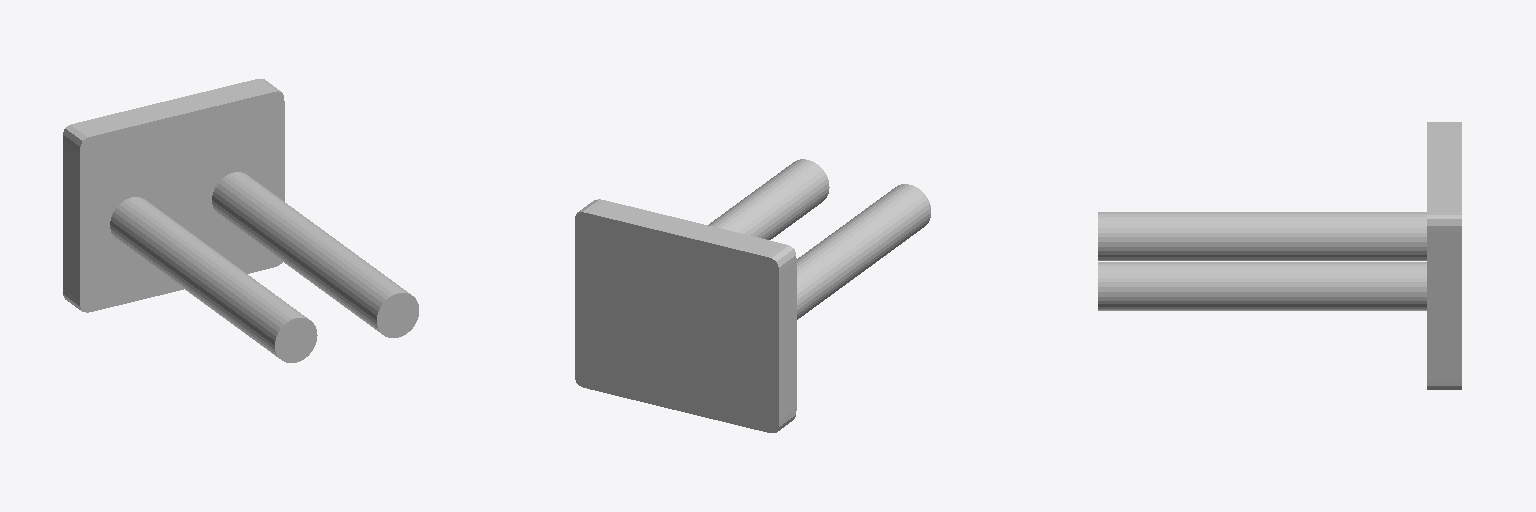
Rendered from planchas_damage_L.obj.
3 views of the same model, side by side, from view 1: azimuth 30°, elevation 25°; view 2: azimuth 150°, elevation 25°; view 3: azimuth 270°, elevation 25° (orthographic).
Visible parts, largest first — view 1: Cylinder.001; view 2: Cylinder.001; view 3: Cylinder.001.
Boxes of the visible parts, x1,y1,x2,y2 form: Cylinder.001: [63, 79, 418, 362]; Cylinder.001: [575, 159, 930, 432]; Cylinder.001: [1098, 122, 1461, 389].
Bounding box in the file's own units: 2.04 × 1.68 × 3.16.